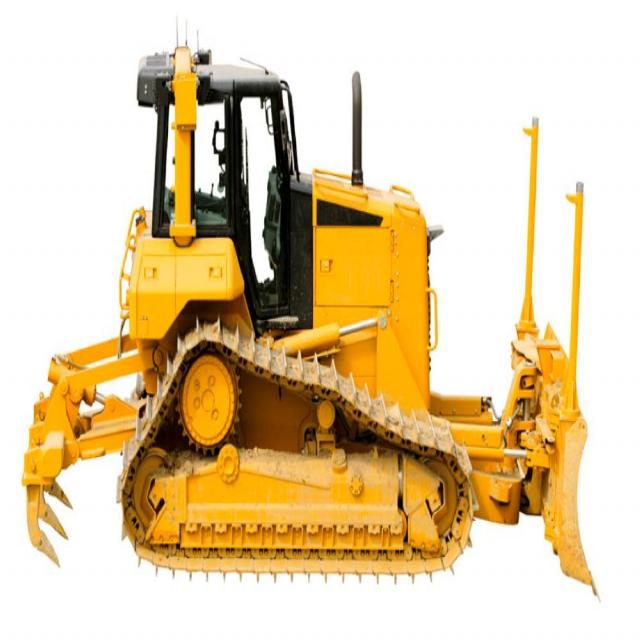Bulldozer: (13, 21, 611, 618)
